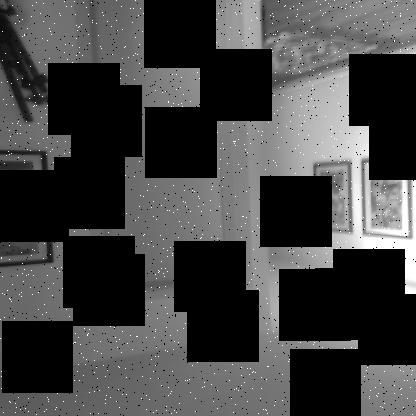Porte: (74, 0, 251, 307)
